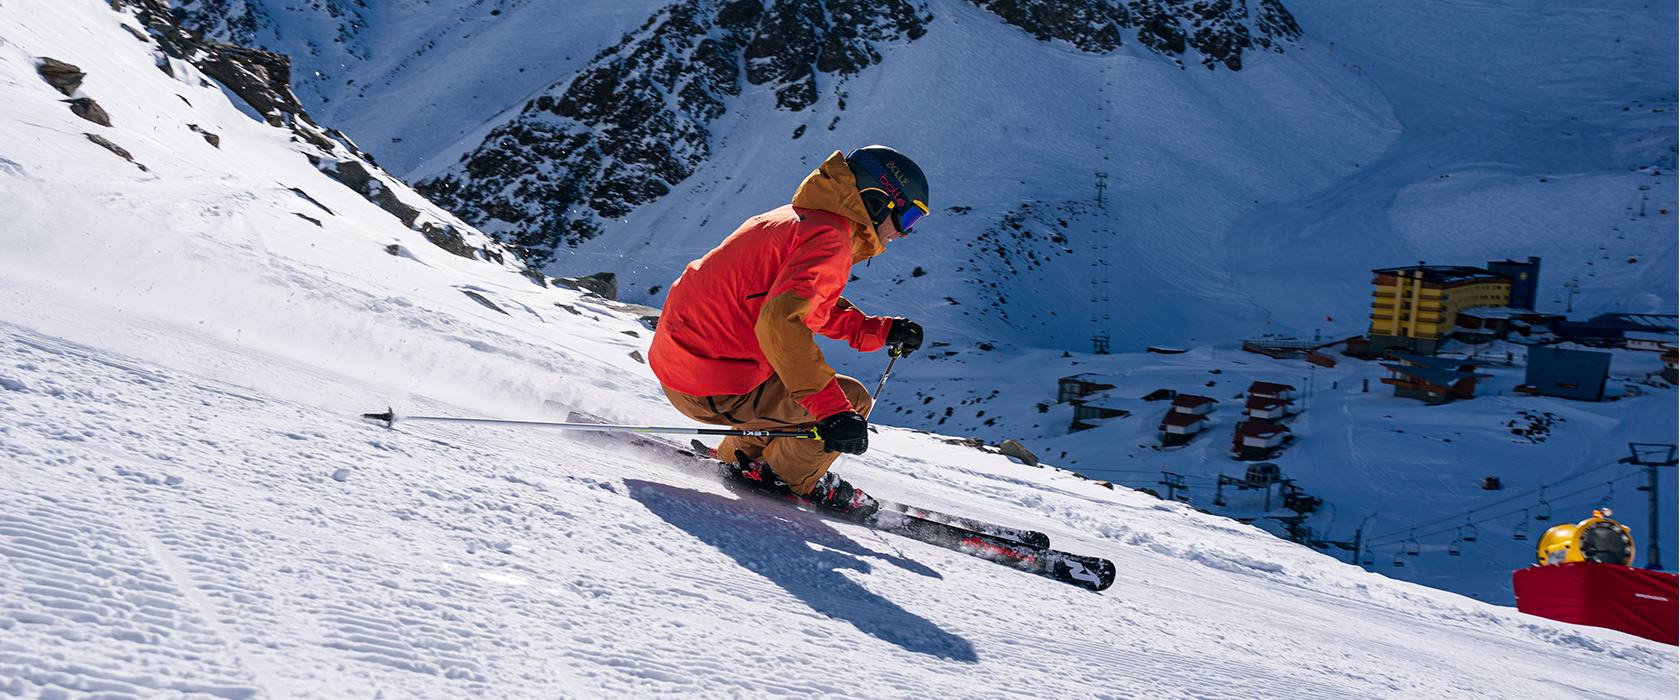skier: (358, 143, 1119, 599)
